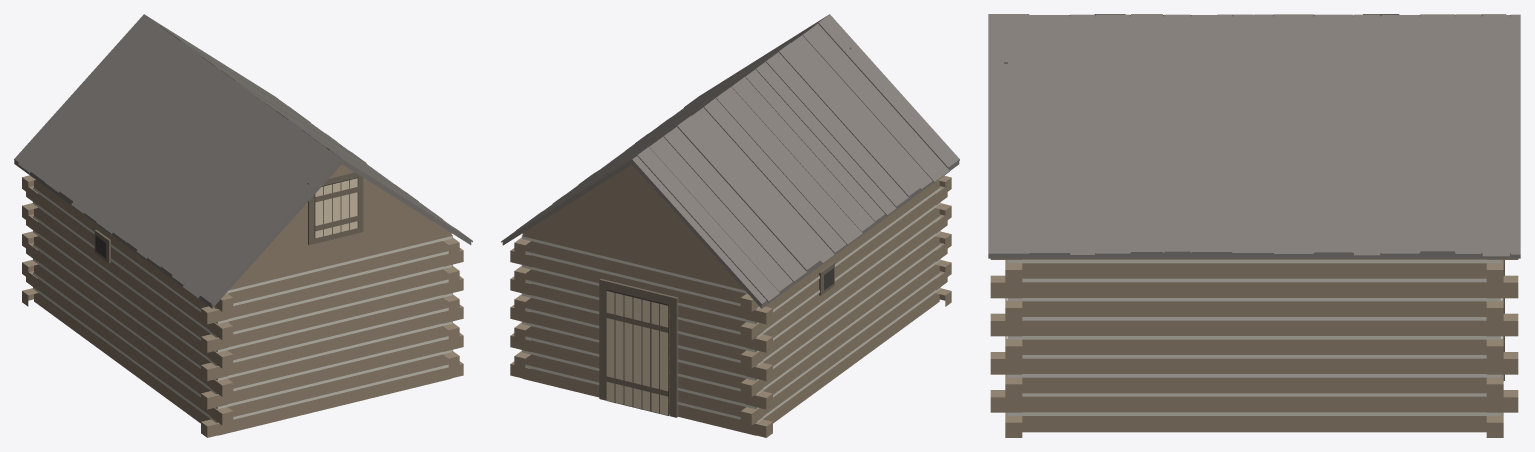
Rendered from recon_1835_blk_south_water_lasalle_a1_06__inferred_1835.glb.
3 renders of one model, left to right at view 1: azimuth 30°, elevation 25°; view 2: azimuth 150°, elevation 25°; view 3: azimuth 270°, elevation 25°, orthographic. The views are drawn at different scales.
Parts seen in each view (by area): view 1: recon_1835_blk_south_water_lasalle_a1_06__inferred_1835; view 2: recon_1835_blk_south_water_lasalle_a1_06__inferred_1835; view 3: recon_1835_blk_south_water_lasalle_a1_06__inferred_1835.
Boxes of the visible parts, x1=… form: recon_1835_blk_south_water_lasalle_a1_06__inferred_1835: x1=14, y1=14, x2=472, y2=437; recon_1835_blk_south_water_lasalle_a1_06__inferred_1835: x1=501, y1=14, x2=959, y2=437; recon_1835_blk_south_water_lasalle_a1_06__inferred_1835: x1=988, y1=14, x2=1520, y2=437.
Size of the model in its own units: 5.7 by 5.24 by 7.39.
